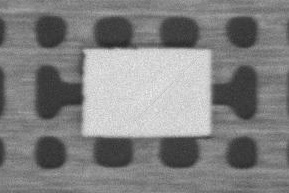DIE_CRACK: (201, 37, 289, 81)
